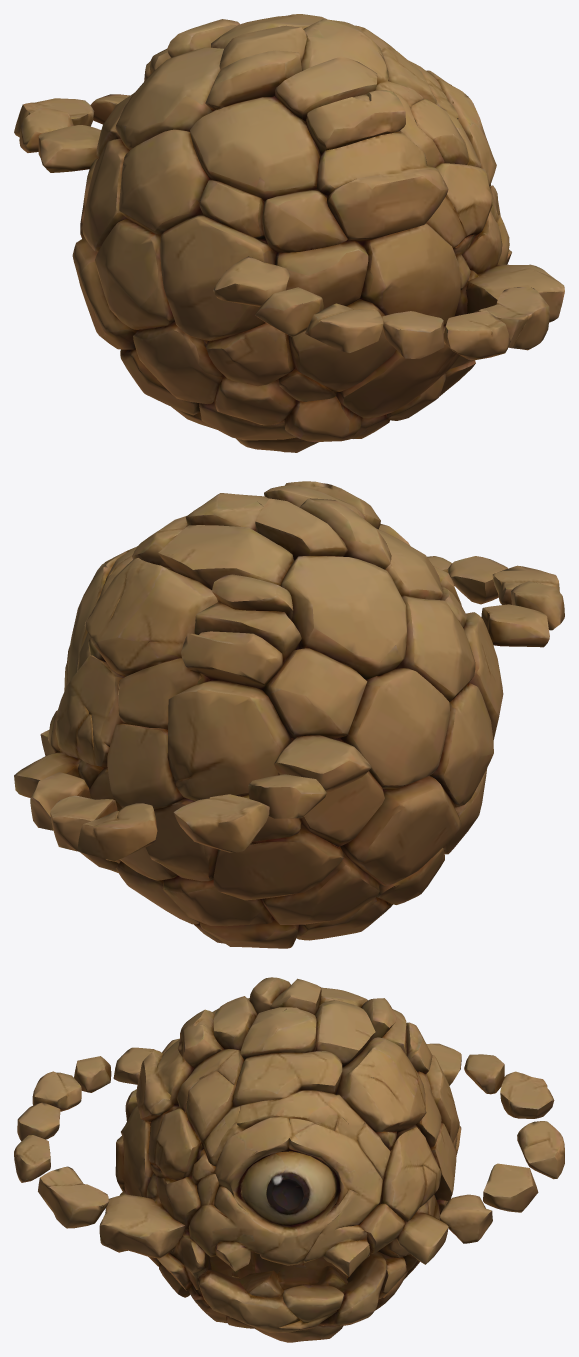
Rendered from ringBeast.glb.
3 renders of one model, top to bottom at view 1: azimuth 30°, elevation 25°; view 2: azimuth 150°, elevation 25°; view 3: azimuth 270°, elevation 25°, orthographic. The views are drawn at different scales.
Visible parts, largest first — view 1: geometry_0; view 2: geometry_0; view 3: geometry_0.
Part boxes in pixels (bbox=[...]): geometry_0: bbox=[14, 14, 564, 452]; geometry_0: bbox=[14, 481, 564, 948]; geometry_0: bbox=[14, 977, 564, 1342].
Bounding box in the file's own units: 0.634 × 0.6493 × 0.9989.
Materials: 1 (1 with a texture image).
